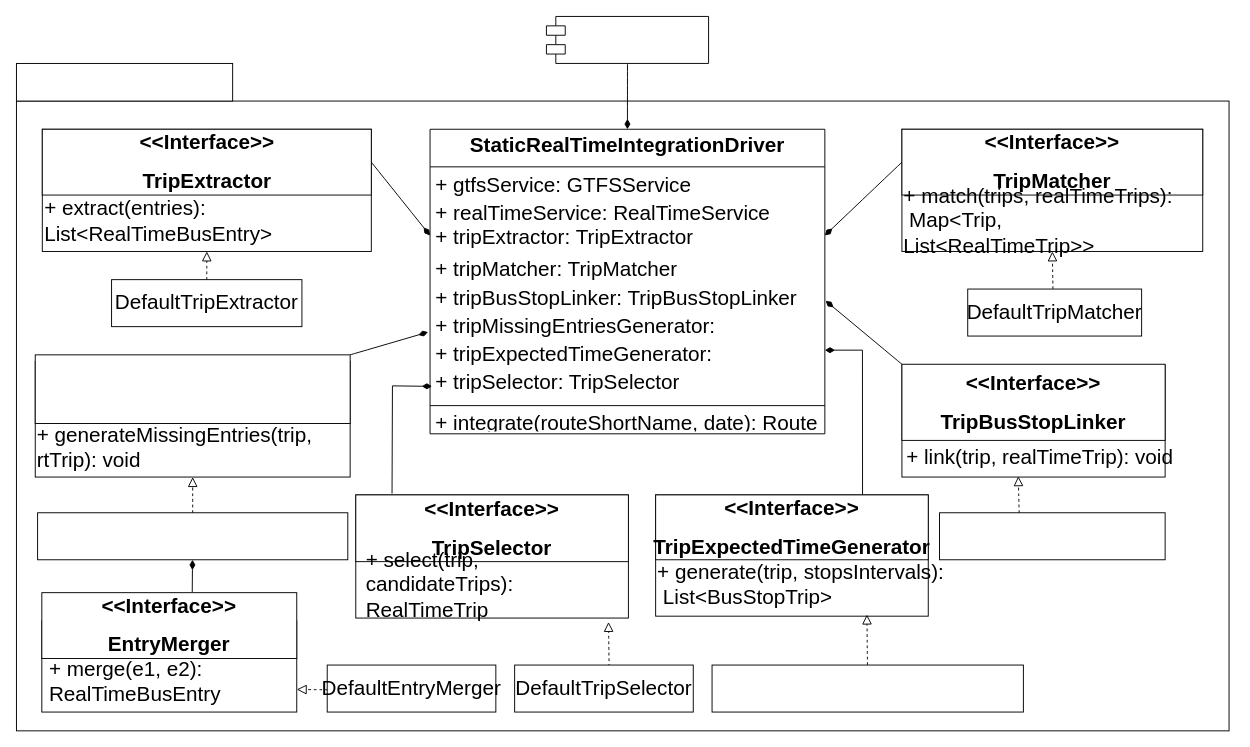
The diagram is 1250 pixels wide and 747 high, and some of its shapes have lost their labels. Each missing label, with the box of its shape:
<<Interface>> TripMissingEntriesGenerator: (34, 354, 350, 423)
Data Providers: (545, 16, 709, 63)
DefaultTripBusStopLinker: (939, 512, 1165, 560)
DefaultTripExpectedTimeGenerator: (711, 664, 1023, 712)
DefaultTripMissingEntriesGenerator: (37, 512, 348, 560)
Integration Module: (16, 63, 233, 101)
